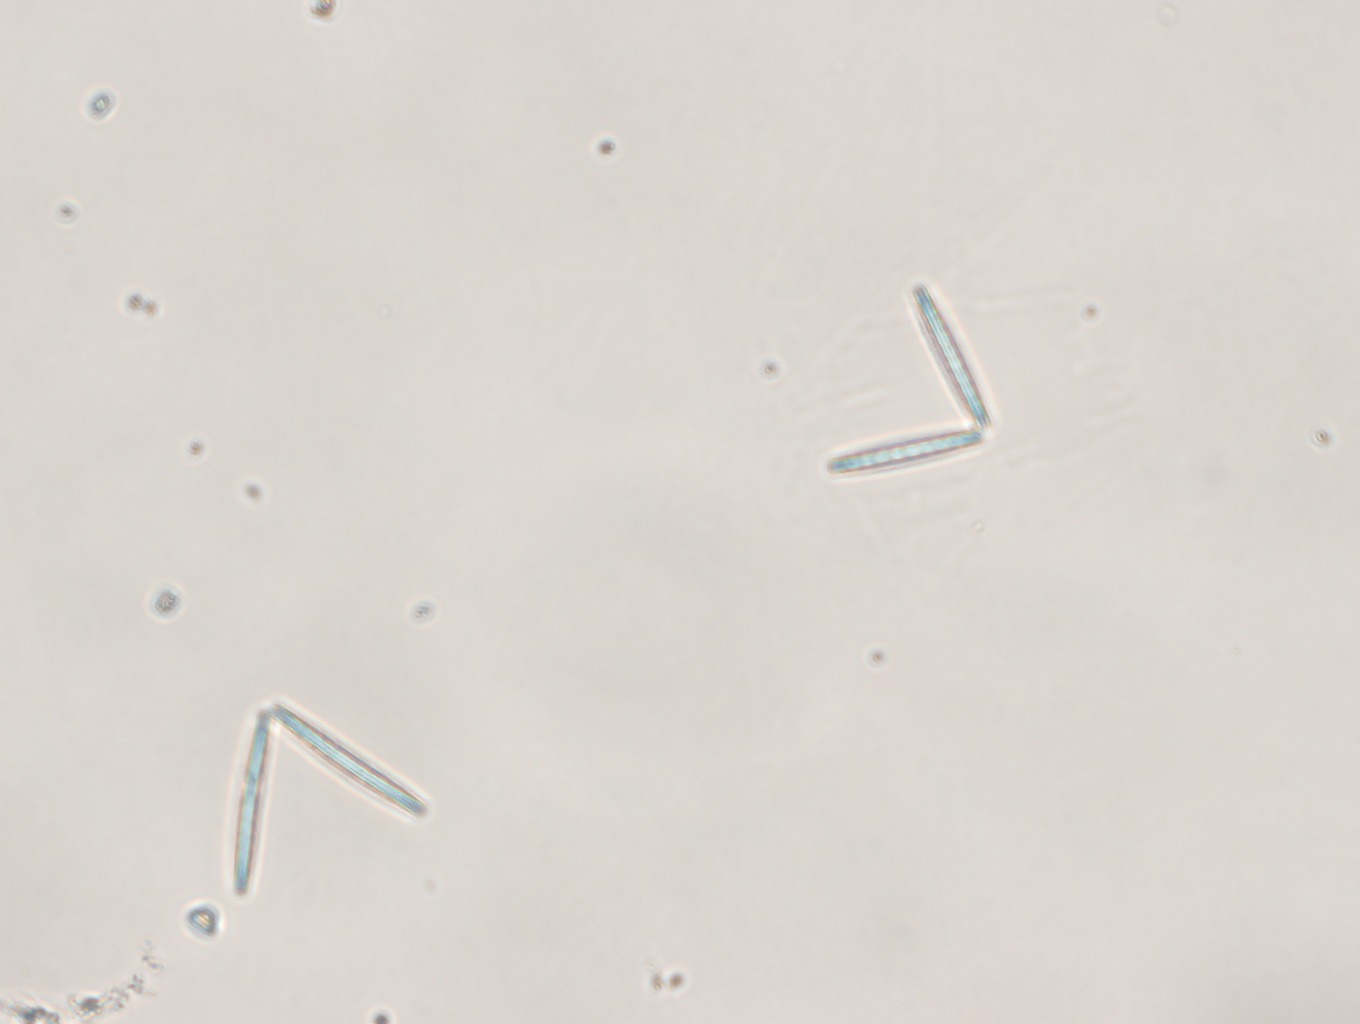thalassionema nitzschioides: (217, 684, 441, 911), (813, 278, 1023, 488)
